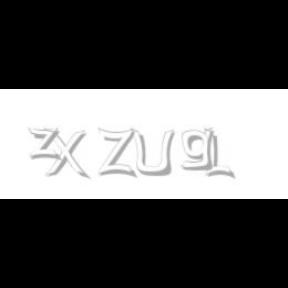L: (204, 128, 232, 180)
U: (130, 128, 174, 178)
X: (43, 128, 87, 180)
Z: (98, 128, 134, 178)
g: (180, 128, 217, 171)
z: (27, 128, 63, 160)
